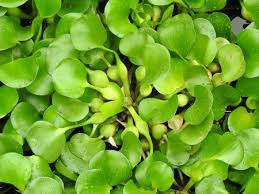water_hyacinth: (0, 1, 259, 194)
